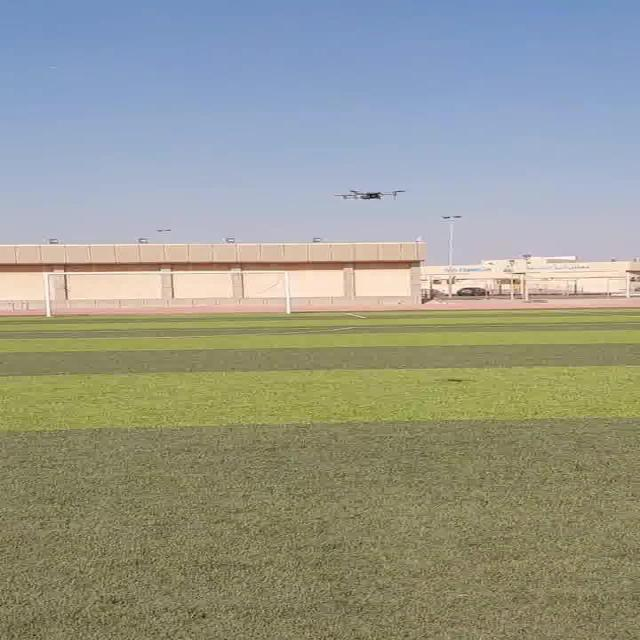drone: (327, 181, 408, 205)
